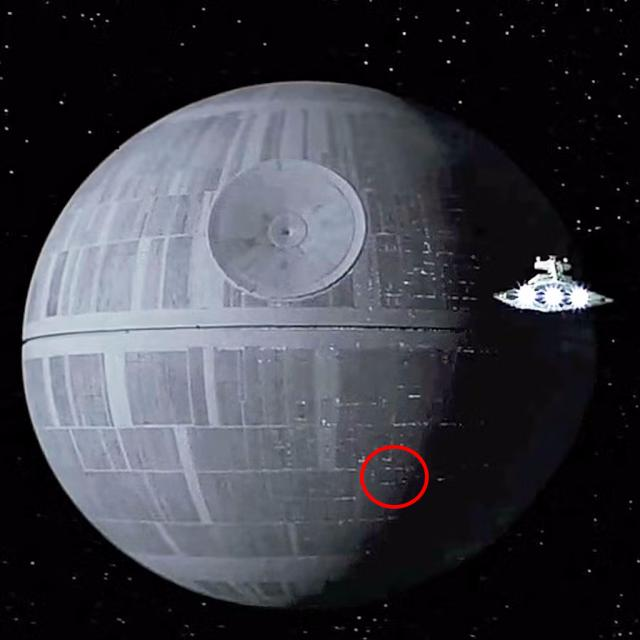Death-star: (20, 80, 612, 625)
